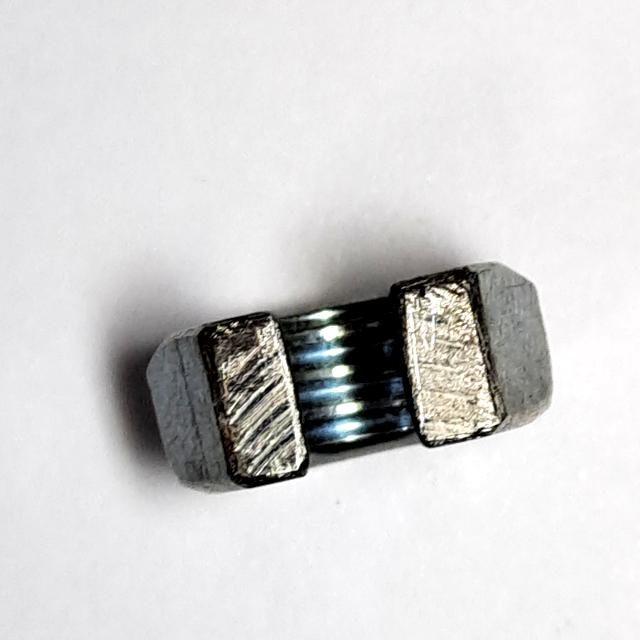Side-Fracture: (136, 233, 561, 514)
